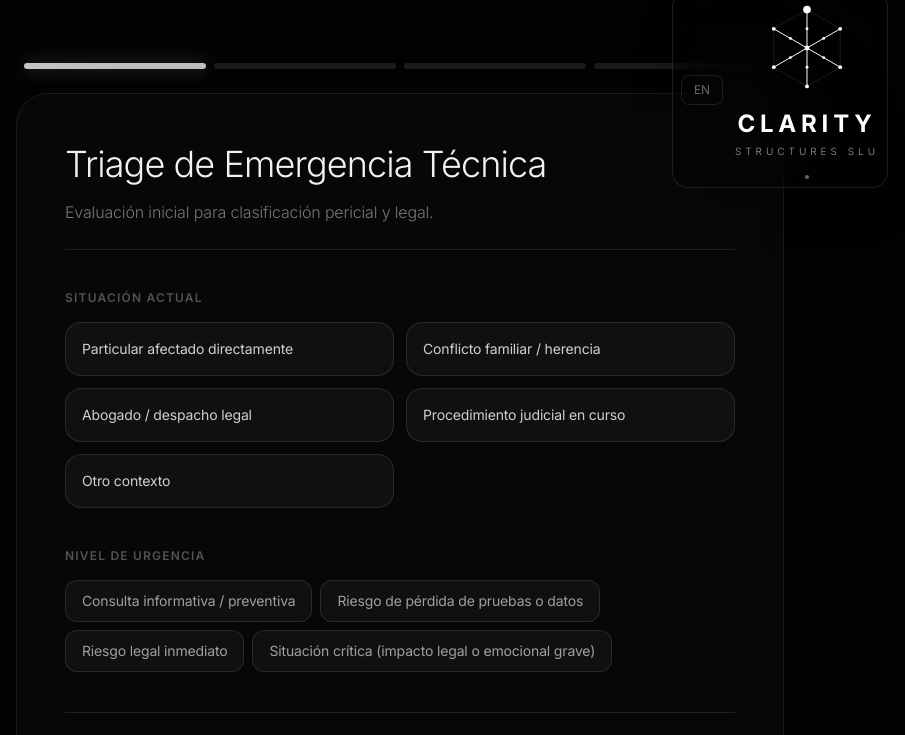
it: Wizard › should navigate to COGNITIVE phase on next
Click the radio button "Particular afectado directamente".
click(230, 349)  # box [65, 322, 394, 376]
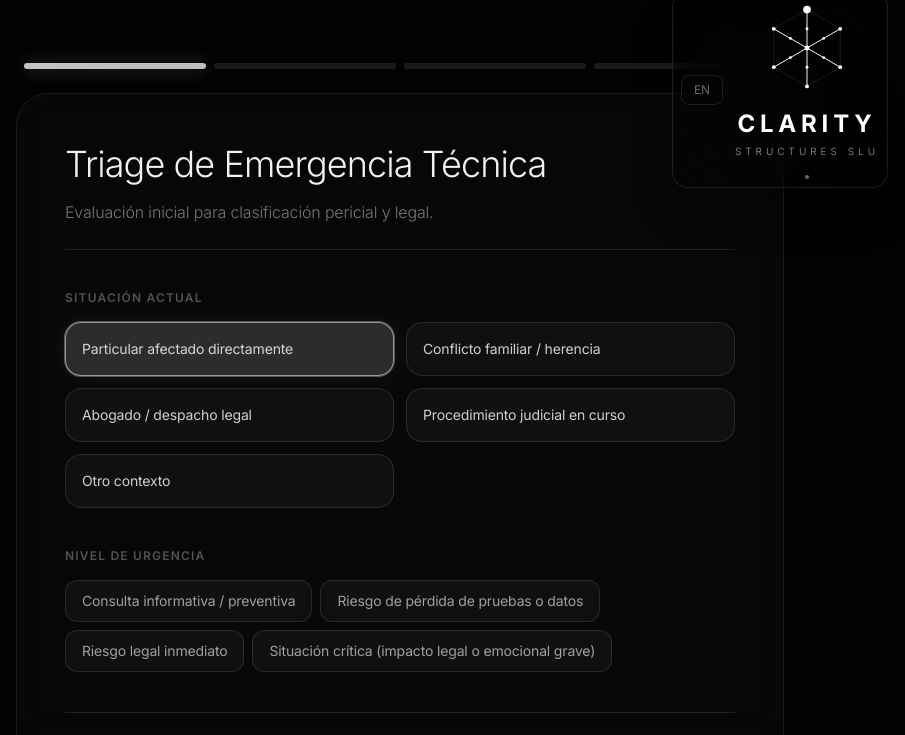
Click the radio button "Consulta informativa / preventiva".
click(189, 601)  # box [65, 580, 312, 622]
(page scrolled)
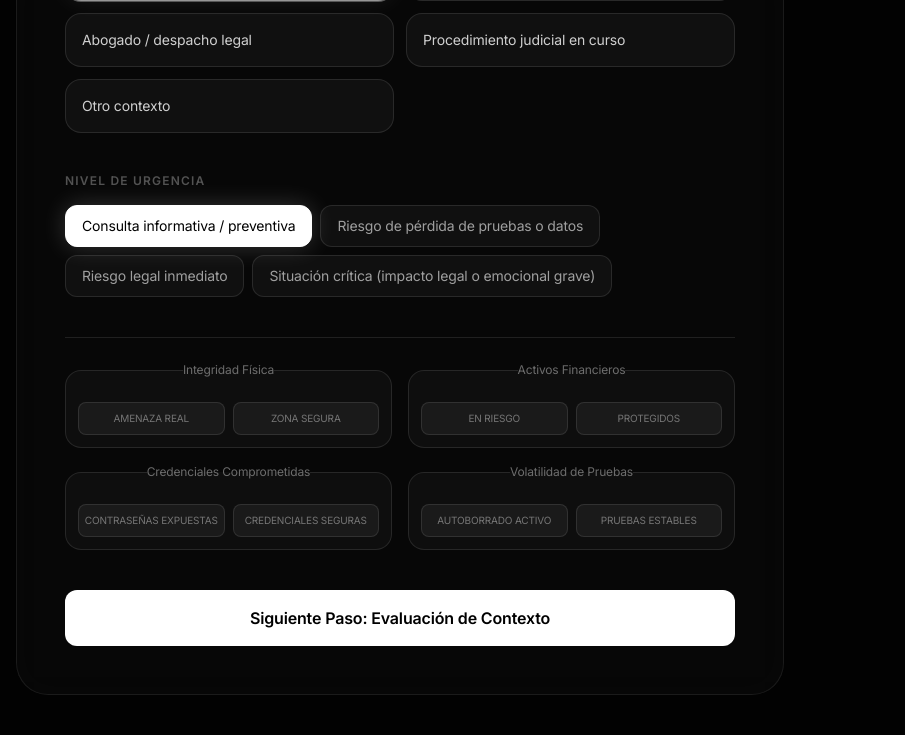
Click the button "Siguiente Paso: Evaluación de Contexto".
click(400, 618)  # box [65, 590, 735, 646]
(page scrolled)
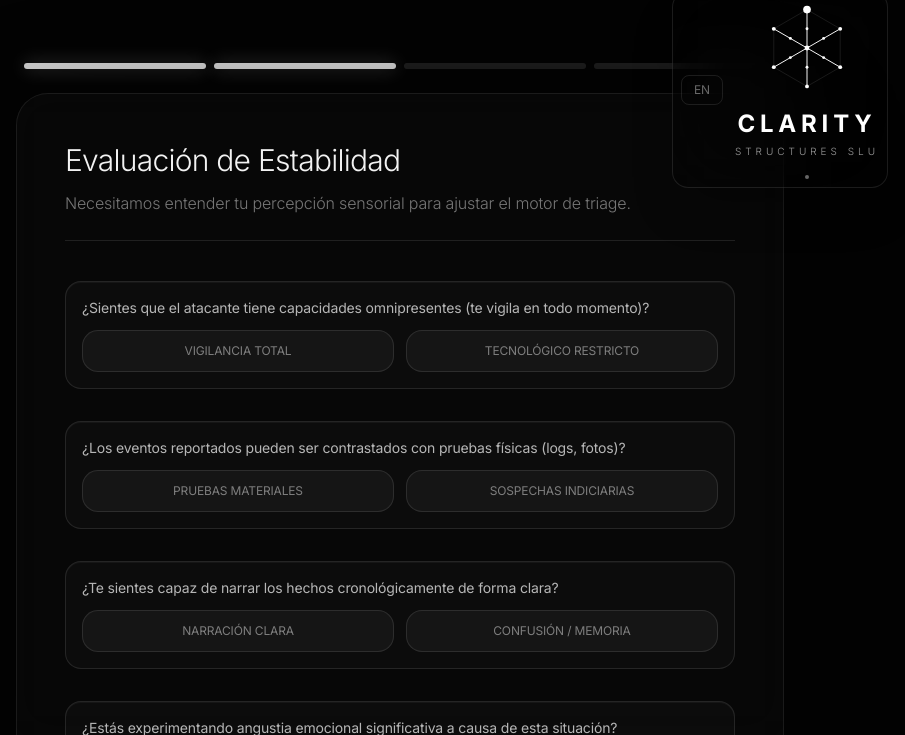
Now the heading "Evaluación de Estabilidad" is shown, box [65, 142, 400, 178]
